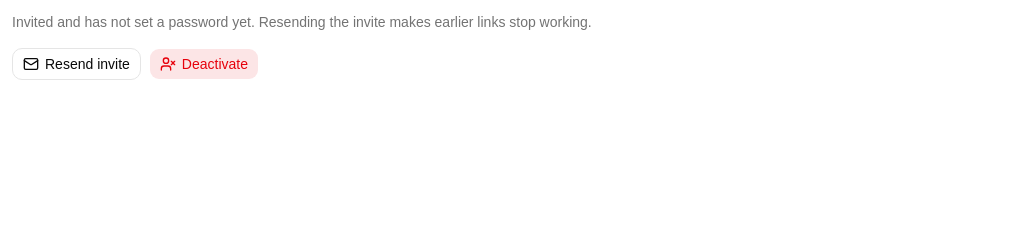
UserActions › resends an invite and shows the link to copy
This screenshot has width=1036, height=229.
Click the button "Resend invite": (76, 64) [12,48,141,80]
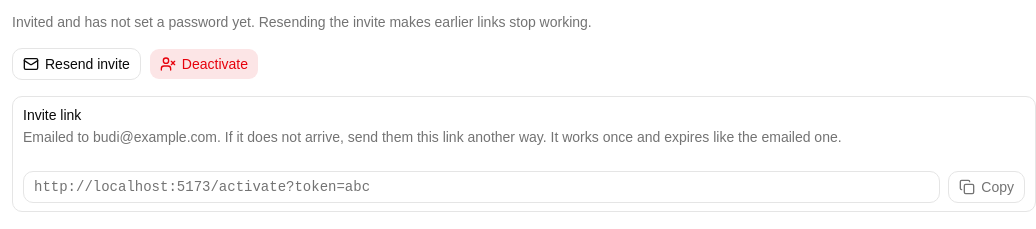
Result: the field named "Link" holds "http://localhost:5173/activate?token=abc" at [23,171,940,203]
Result: the text "Invite link" is shown at [23,107,81,123]
